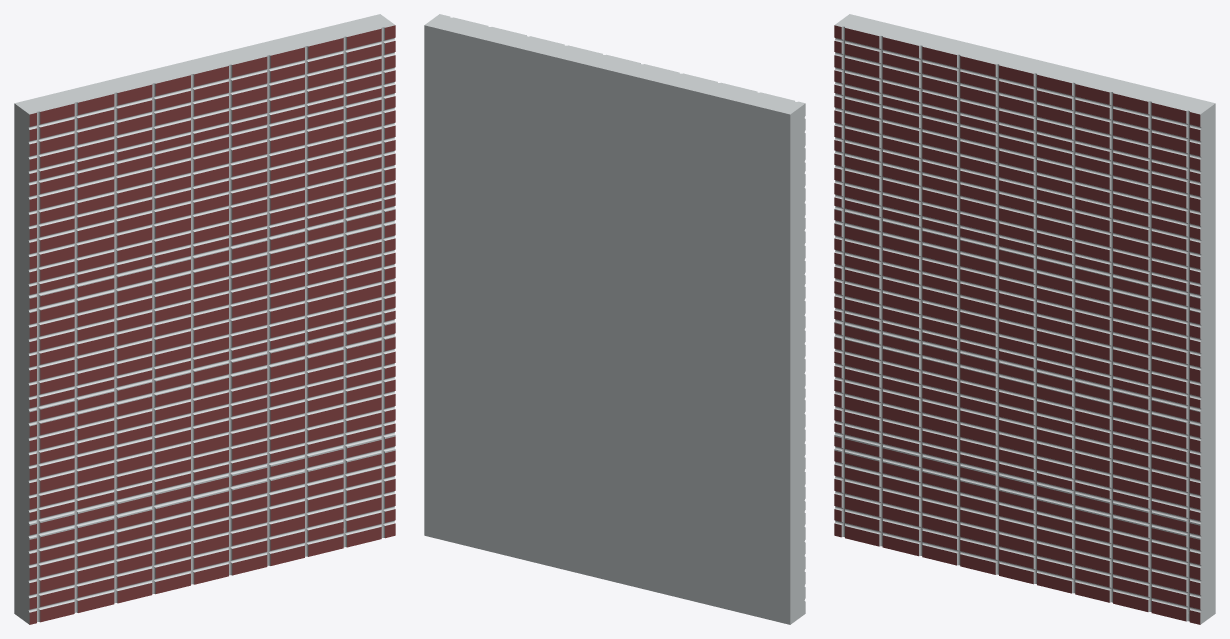
Rendered from brickWall.glb.
3 views of the same model, side by side, from view 1: azimuth 30°, elevation 25°; view 2: azimuth 150°, elevation 25°; view 3: azimuth 330°, elevation 25° (orthographic).
Parts seen in each view (by area): view 1: Cube.010; view 2: Cube.010; view 3: Cube.010.
Part boxes in pixels (<box>): Cube.010: <box>14,14,395,624</box>; Cube.010: <box>424,14,805,624</box>; Cube.010: <box>834,14,1215,624</box>.
Bounding box in the file's own units: 6.92 × 9.23 × 0.5034.
